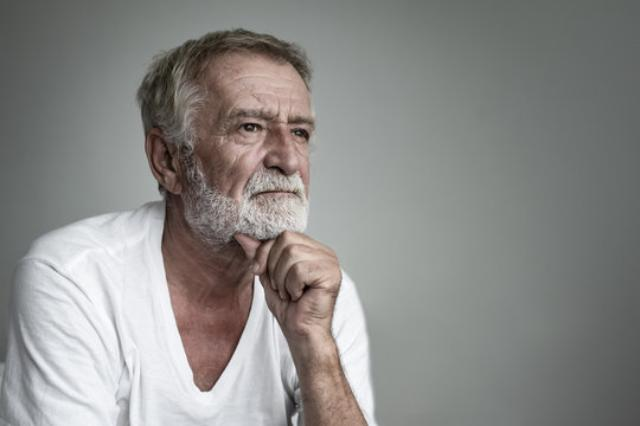forehead: (231, 68, 257, 84), (248, 88, 266, 104)
frown_line: (272, 101, 282, 121)
